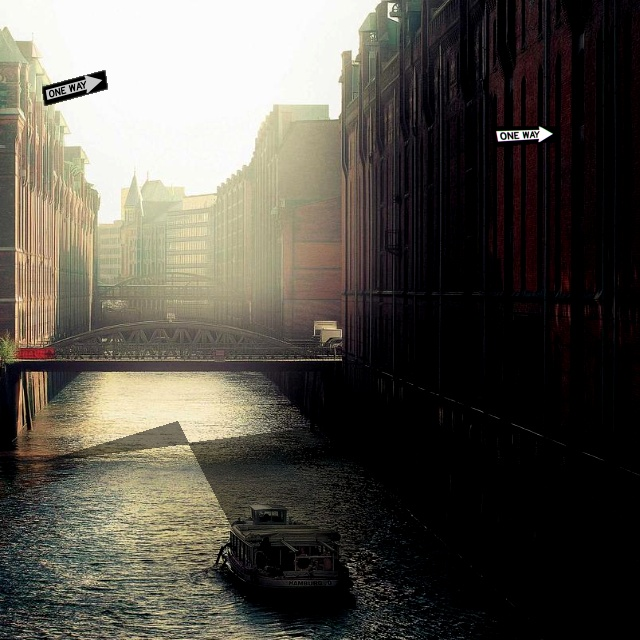ONE_WAY_ right: (41, 69, 108, 106), (490, 125, 557, 147)
